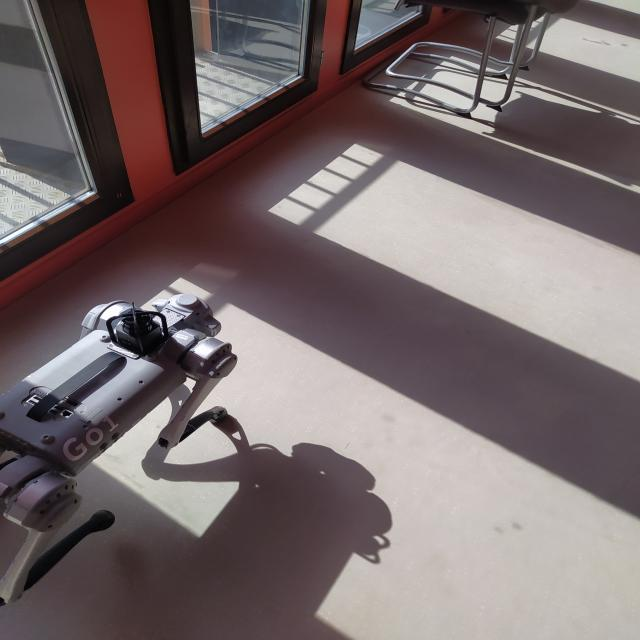unitree-go1-robot: (0, 280, 272, 610)
